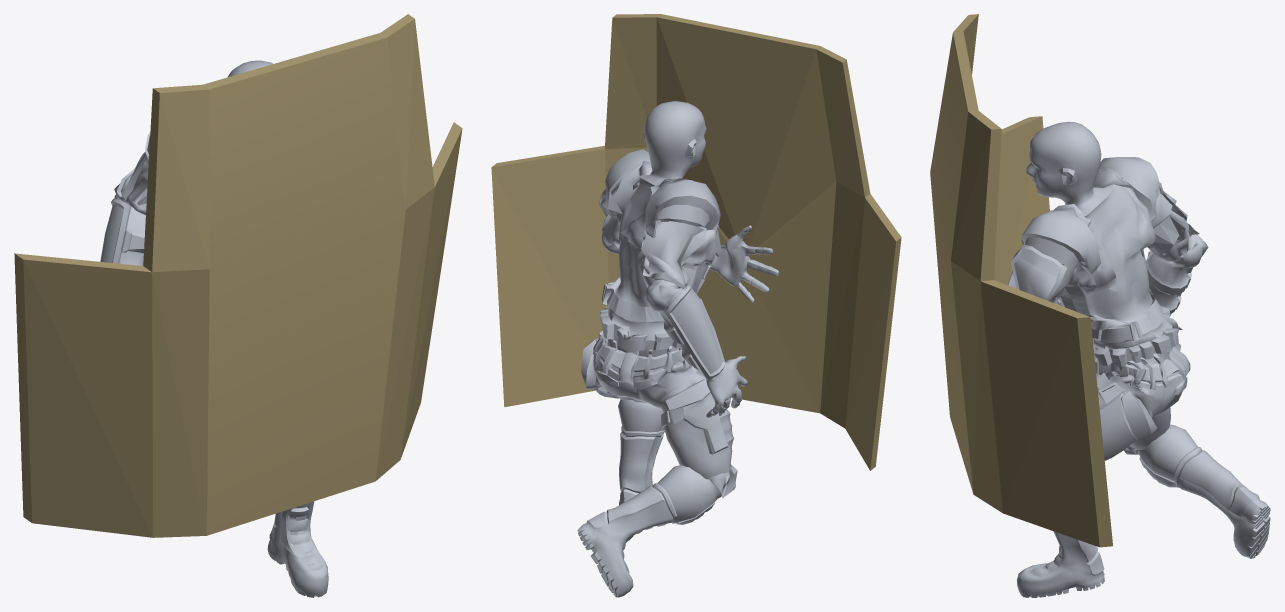
Rendered from BUBBLE.FBX.
The picture shows the model from 3 angles, left to right: view 1: azimuth 30°, elevation 25°; view 2: azimuth 150°, elevation 25°; view 3: azimuth 270°, elevation 25°; orthographic projection. The views are drawn at different scales.
Visible parts, largest first — view 1: helmet; view 2: helmet; view 3: helmet.
Boxes of the visible parts, x1,y1,x2,y2 form: helmet: (14, 14, 462, 597); helmet: (491, 14, 901, 597); helmet: (930, 14, 1270, 597).
Size of the model in its own units: 149 by 175 by 108.
